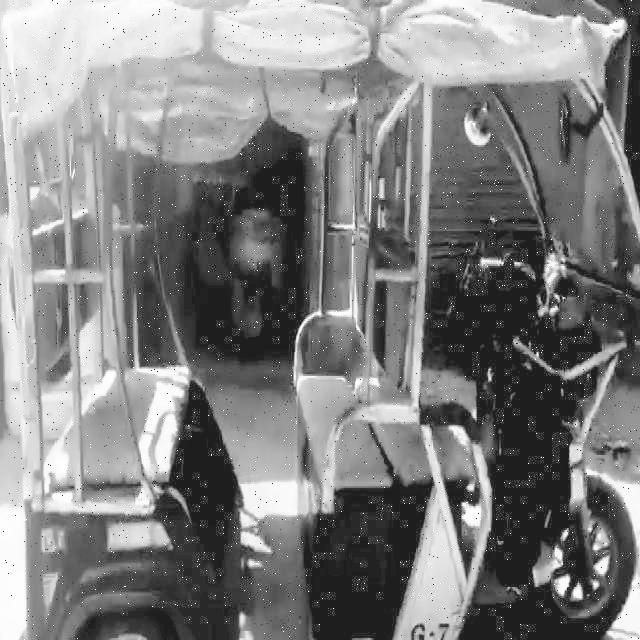Toto: (21, 341, 640, 640)
